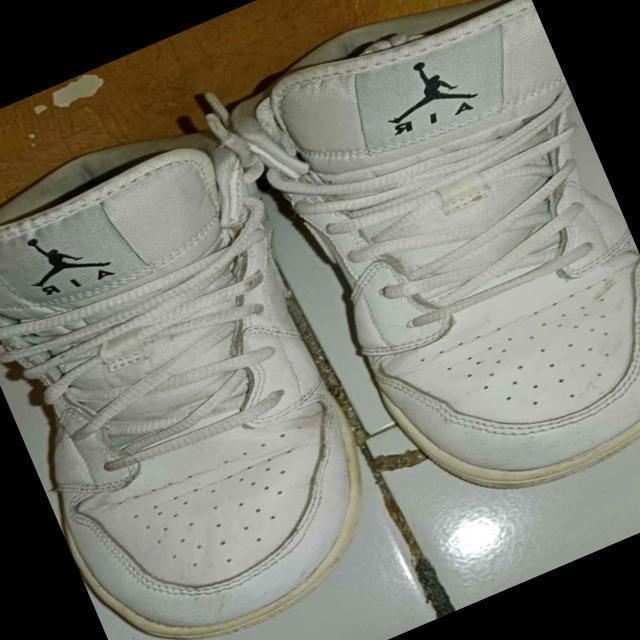nike fake jordan 1: (0, 89, 432, 640), (223, 0, 640, 539)
